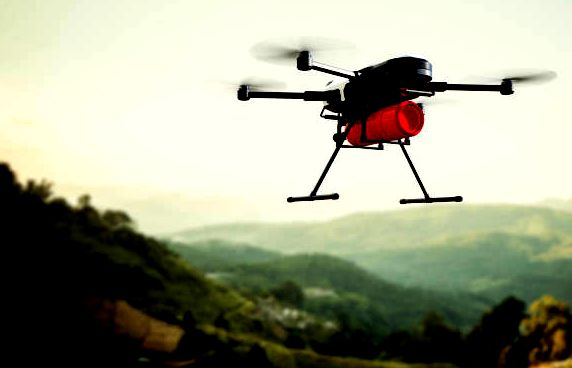Drone: (225, 26, 559, 112)
